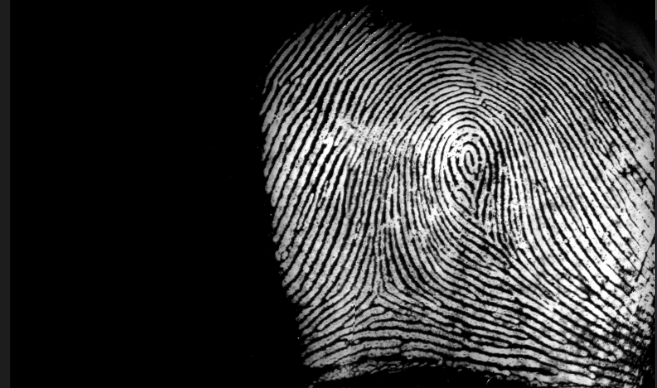nucelo: (451, 140, 486, 175)
verticilo: (362, 273, 399, 310)
